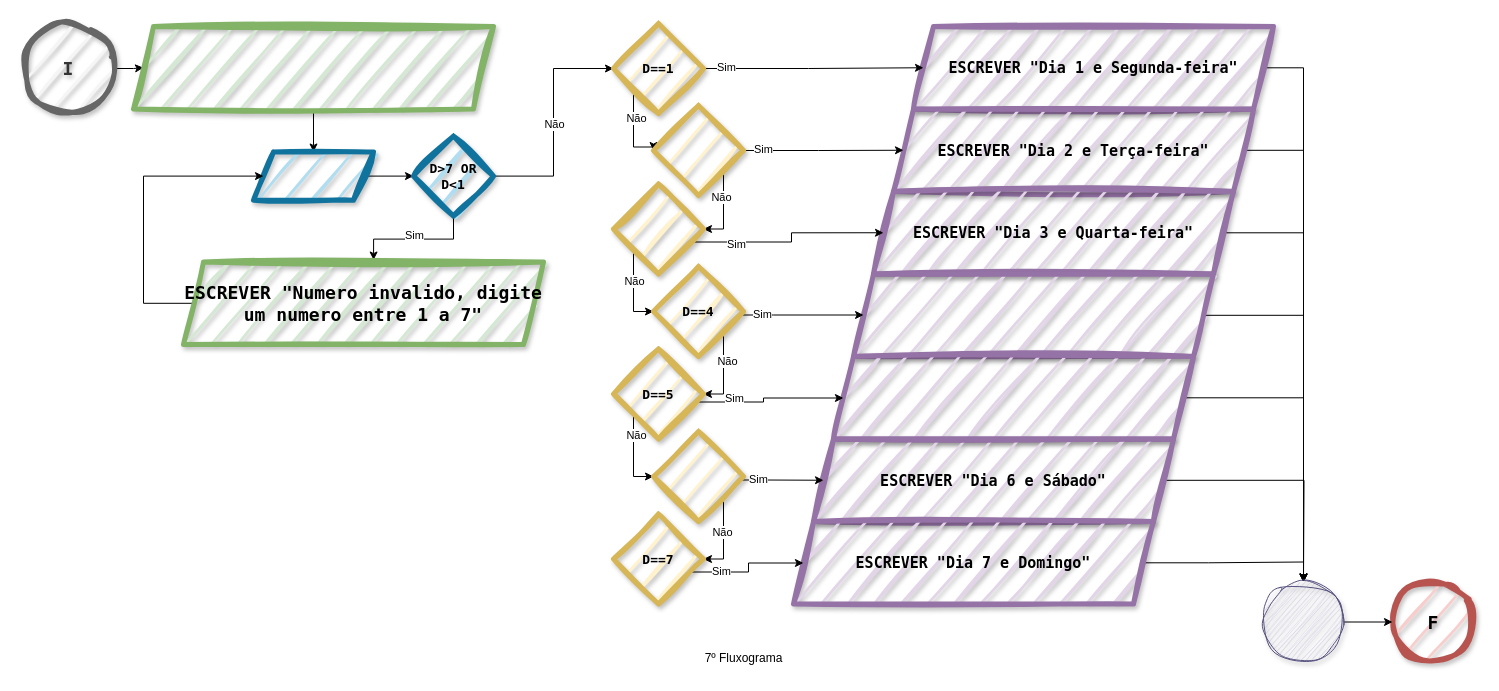
This 1499x691 diagram has some shape labels left out. Here are the shapes that lost their labels. From the top down, the centre of each, then its label:
[314,69]: ESCREVER "Digite um dia de semana em numero"
[699,151]: D==2
[314,177]: Ler D
[659,230]: D==3
[1034,316]: ESCREVER "Dia 4 e Quinta-feira"
[1014,399]: ESCREVER "Dia 5 e Sexta-feira"
[699,477]: D==6
